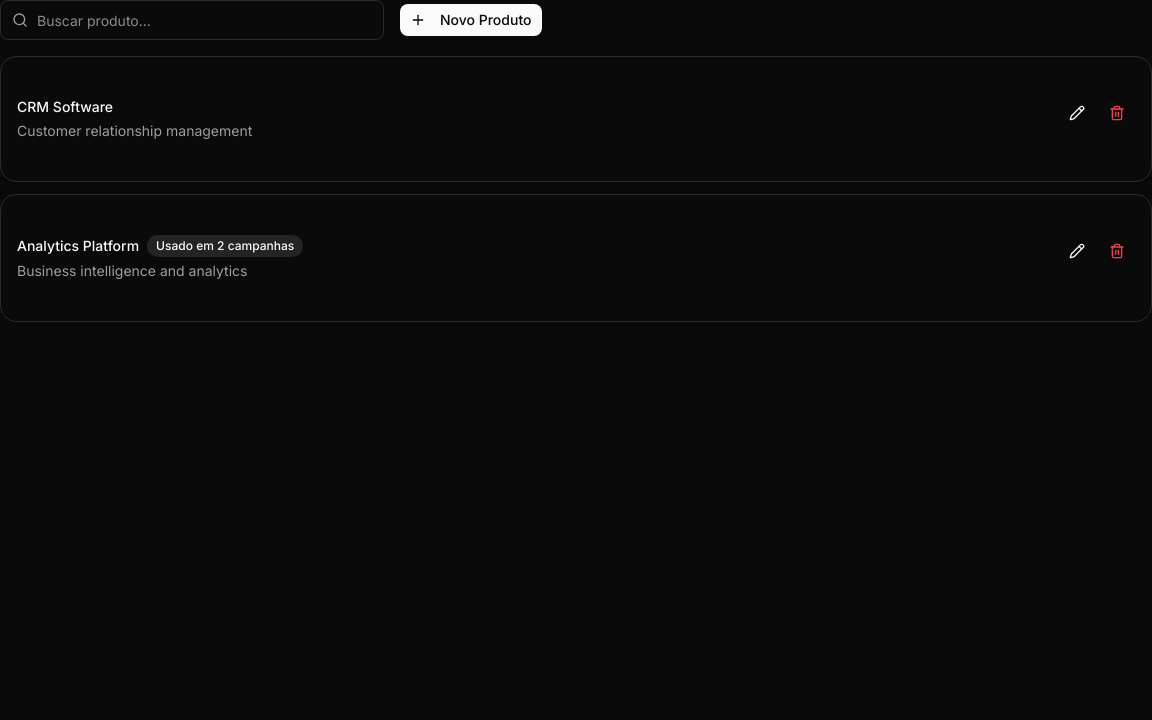
Test: ProductList (AC: #2, #7) › Delete Product › opens confirmation dialog when delete is clicked
What coordinates should you click on to do the following:
click the button named "Excluir produto" in the row of "Customer relationship management"
I would click on:
 (1117, 113)
Its box is [1099, 97, 1135, 129].
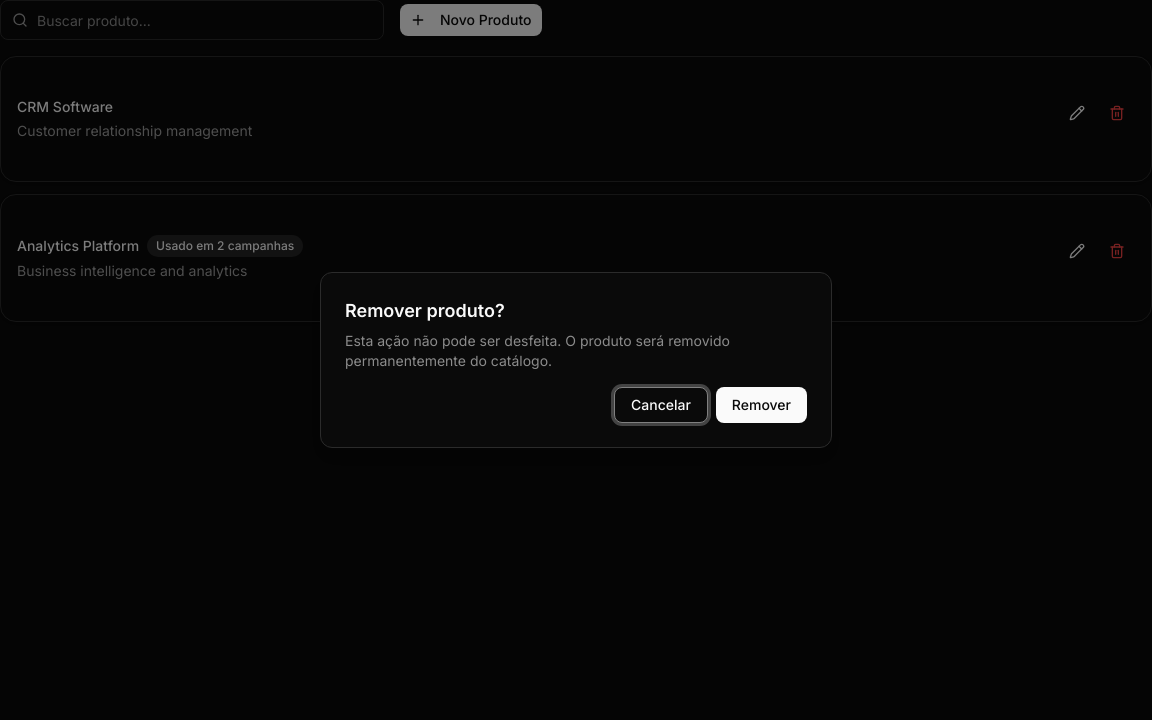
Check: the heading "Remover produto?" is shown, box [345, 297, 505, 325]
